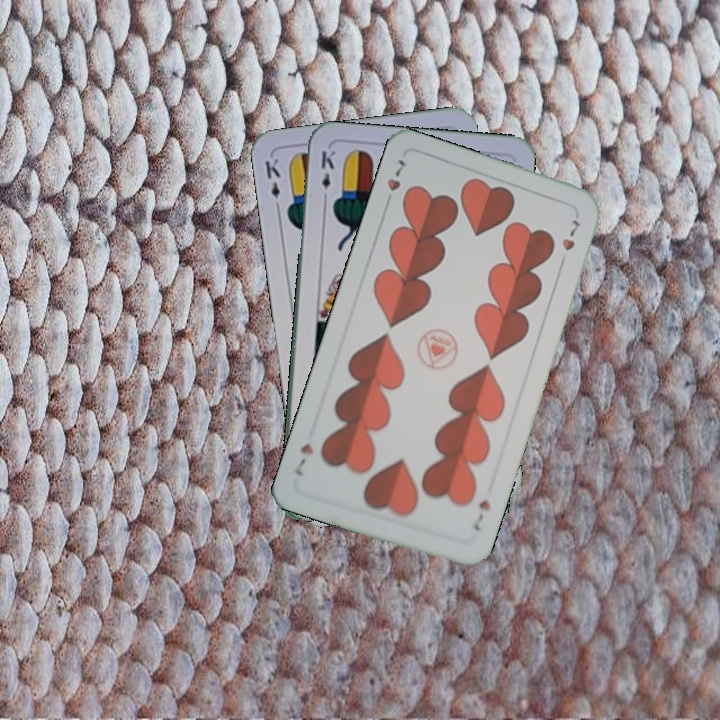EK: (261, 154, 283, 214), (317, 146, 338, 205)
H7: (380, 154, 408, 210), (469, 495, 493, 534)
